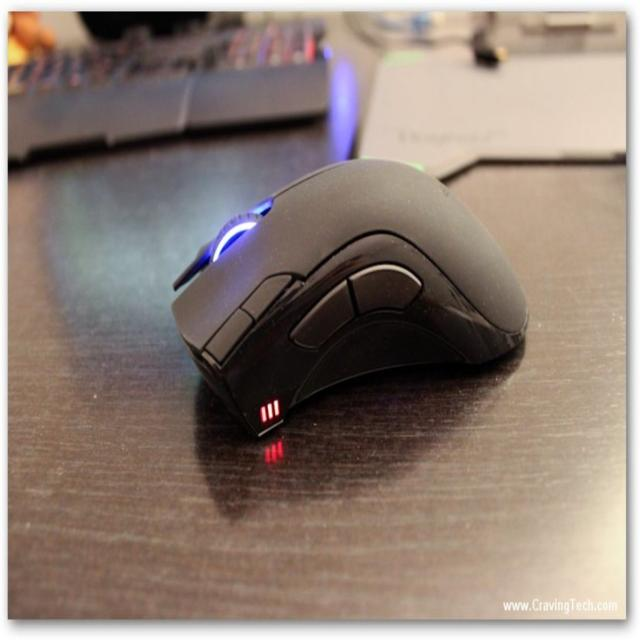Computer-mouse: (169, 154, 531, 437)
